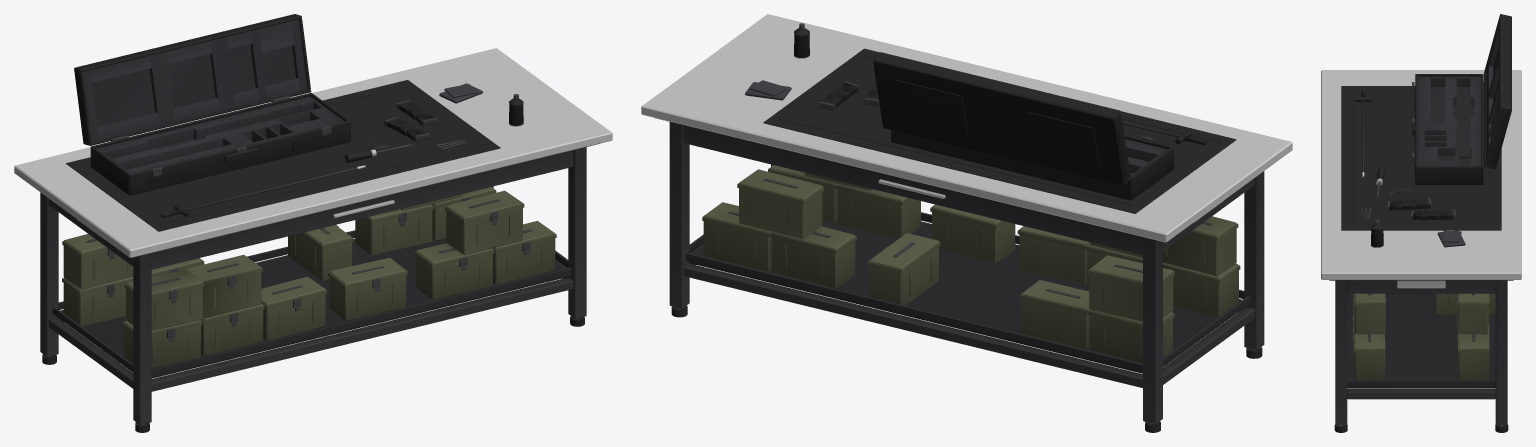
File: armory_table.gltf
The picture shows the model from 3 angles, left to right: view 1: azimuth 30°, elevation 25°; view 2: azimuth 150°, elevation 25°; view 3: azimuth 270°, elevation 25°; orthographic projection. The views are drawn at different scales.
Visible parts, largest first — view 1: ArmoryTable_Olive, ArmoryTable_Graphite, ArmoryTable_Polymer, ArmoryTable_Stainless, ArmoryTable_Felt, ArmoryTable_Gunmetal; view 2: ArmoryTable_Graphite, ArmoryTable_Olive, ArmoryTable_Polymer, ArmoryTable_Stainless, ArmoryTable_Felt, ArmoryTable_Gunmetal; view 3: ArmoryTable_Polymer, ArmoryTable_Stainless, ArmoryTable_Graphite, ArmoryTable_Felt, ArmoryTable_Olive, ArmoryTable_Gunmetal.
Boxes of the visible parts, x1,y1,x2,y2 form: ArmoryTable_Olive: [62, 187, 556, 368]; ArmoryTable_Graphite: [40, 143, 599, 424]; ArmoryTable_Polymer: [42, 14, 584, 432]; ArmoryTable_Stainless: [14, 48, 612, 424]; ArmoryTable_Felt: [83, 19, 482, 173]; ArmoryTable_Gunmetal: [86, 94, 532, 341]; ArmoryTable_Graphite: [655, 118, 1264, 424]; ArmoryTable_Olive: [702, 165, 1240, 363]; ArmoryTable_Polymer: [671, 28, 1262, 432]; ArmoryTable_Stainless: [641, 14, 1292, 423]; ArmoryTable_Felt: [745, 80, 1167, 176]; ArmoryTable_Gunmetal: [728, 23, 1211, 298]; ArmoryTable_Polymer: [1334, 14, 1511, 432]; ArmoryTable_Stainless: [1321, 70, 1521, 425]; ArmoryTable_Graphite: [1329, 280, 1513, 425]; ArmoryTable_Felt: [1418, 25, 1499, 247]; ArmoryTable_Olive: [1353, 293, 1495, 380]; ArmoryTable_Gunmetal: [1352, 82, 1483, 347].
Size of the model in its own units: 2.4 by 1.35 by 1.
